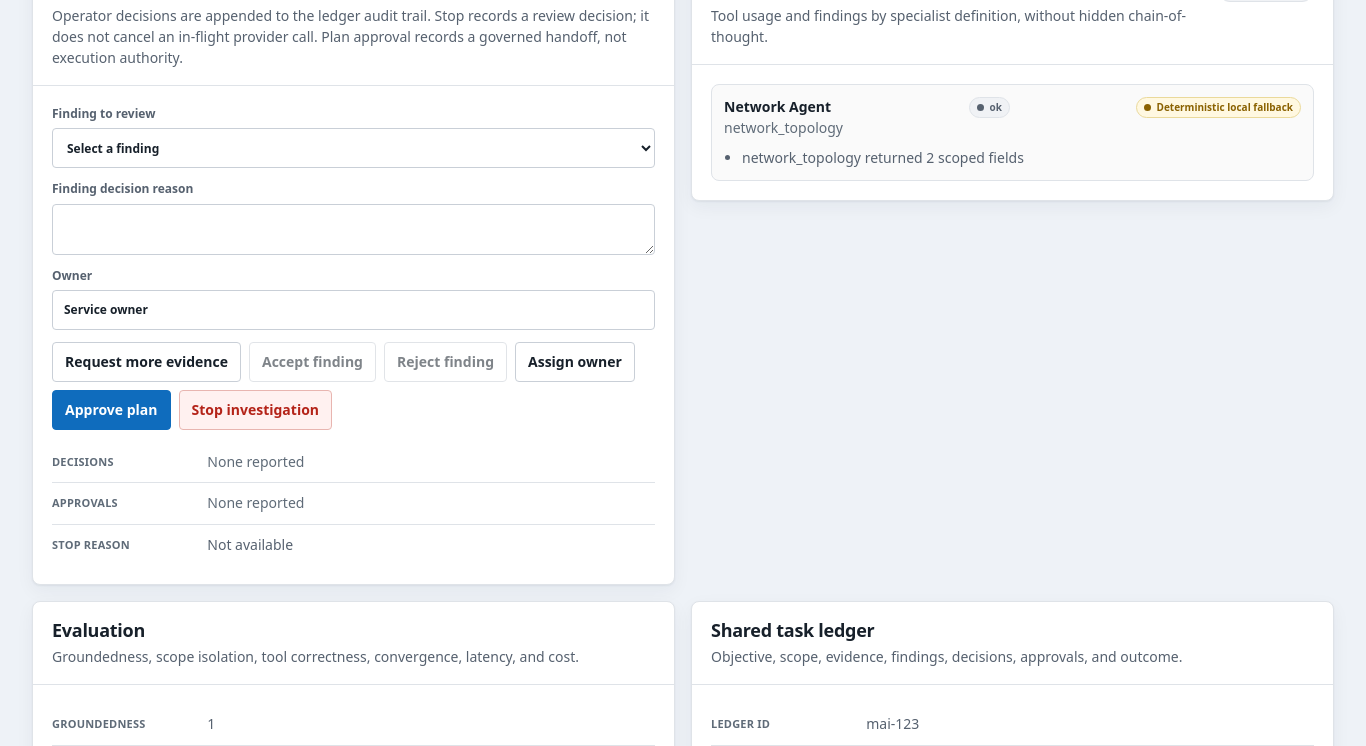
Test: Multi-Agent Autonomous Investigation workspace › rejects a review result for another ledger without losing the retained identity
(page scrolled)
Click the button "Assign owner": (575, 362) [515, 342, 635, 382]
(page scrolled)
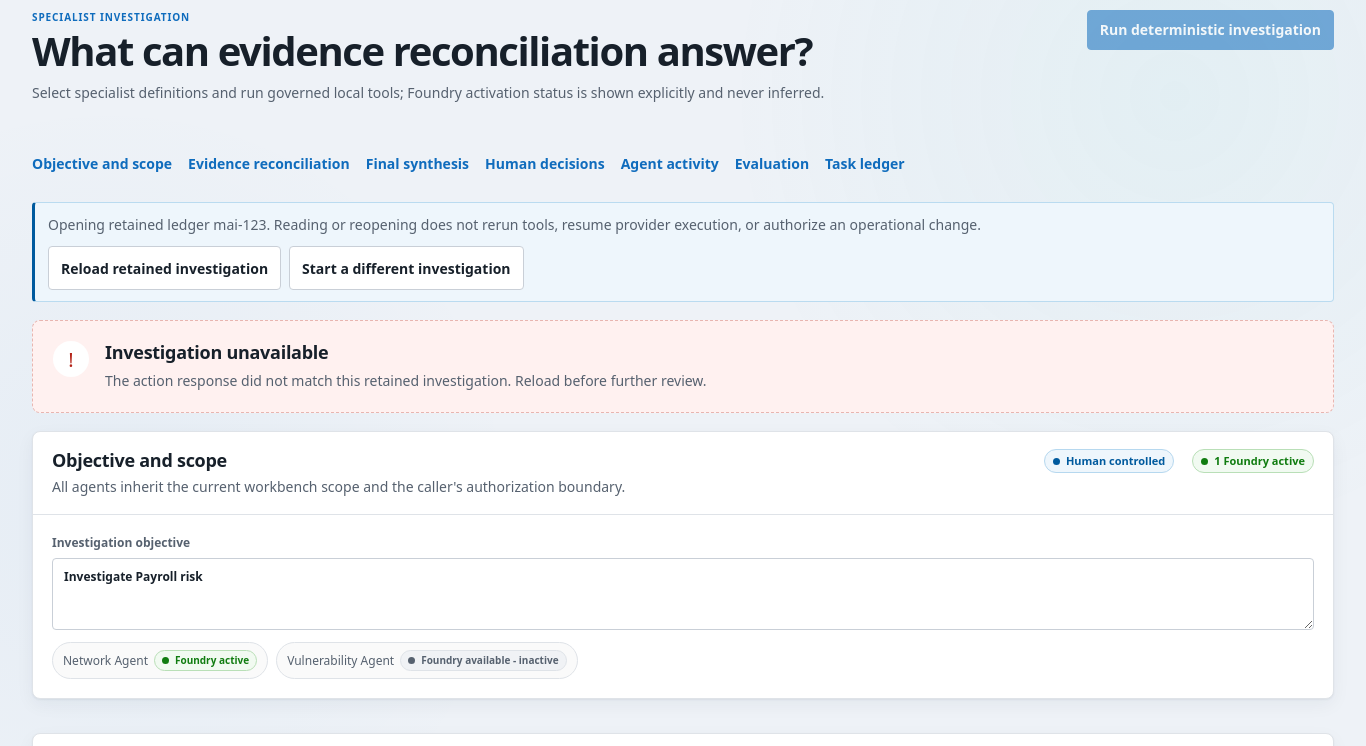
expect the element named "Retained investigation continuation" shows "mai-123": met, box [48, 215, 270, 234]
expect the text "action response did not match this retained" is shown: met, box [105, 371, 707, 390]
Click the button "Reload retained investigation": (165, 268) [48, 246, 281, 290]
(page scrolled)
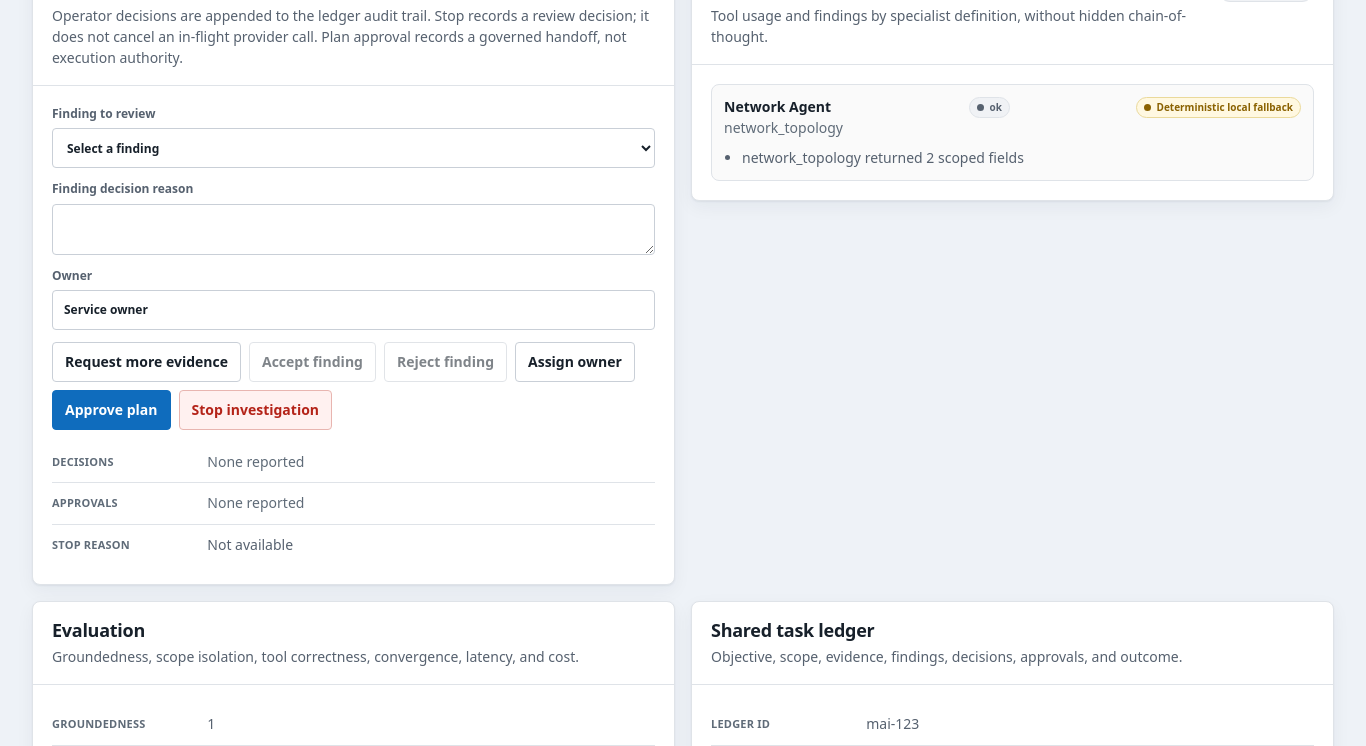
expect the button "Assign owner" is enabled: met, box [515, 342, 635, 382]
